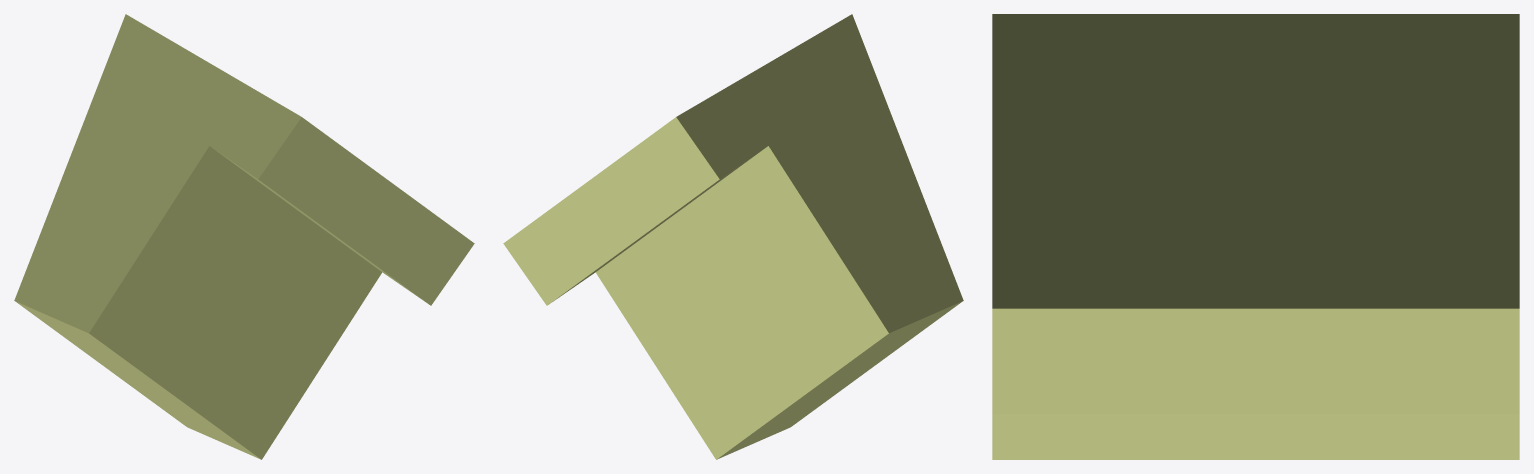
3 renders of one model, left to right at view 1: azimuth 30°, elevation 25°; view 2: azimuth 150°, elevation 25°; view 3: azimuth 270°, elevation 25°, orthographic. The views are drawn at different scales.
Visible parts, largest first — view 1: 0_1_3_2_2_1_2_1_3_0_0; view 2: 0_1_3_2_2_1_2_1_3_0_0; view 3: 0_1_3_2_2_1_2_1_3_0_0.
Part boxes in pixels (<box>): 0_1_3_2_2_1_2_1_3_0_0: <box>14,14,474,459</box>; 0_1_3_2_2_1_2_1_3_0_0: <box>503,14,963,459</box>; 0_1_3_2_2_1_2_1_3_0_0: <box>992,14,1519,459</box>.
Size of the model in its own units: 8.64 by 8.92 by 9.
